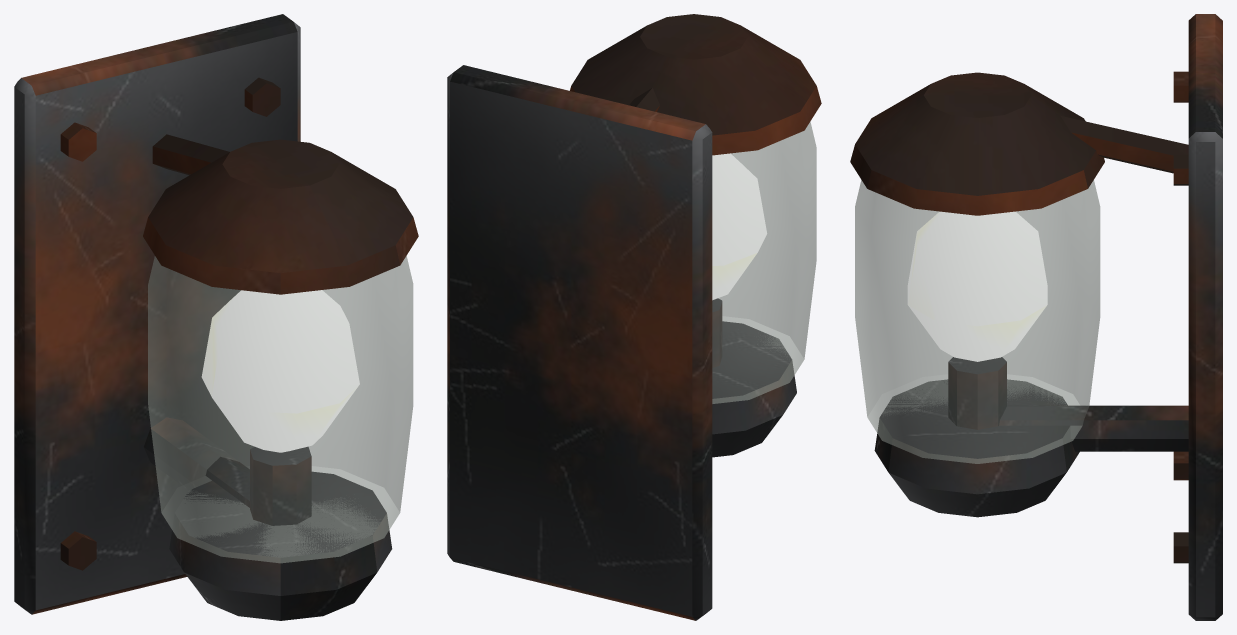
Rendered from light_wall_sconce.glb.
The picture shows the model from 3 angles, left to right: view 1: azimuth 30°, elevation 25°; view 2: azimuth 150°, elevation 25°; view 3: azimuth 270°, elevation 25°; orthographic projection. The views are drawn at different scales.
Visible parts, largest first — view 1: Body, Glass, Rust, Bulb; view 2: Body, Glass, Rust, Bulb; view 3: Glass, Body, Rust, Bulb.
Part boxes in pixels (x1,y1,x2,y2): Body: (14, 14, 392, 620); Glass: (148, 256, 413, 563); Rust: (60, 77, 418, 570); Bulb: (201, 290, 359, 452); Body: (447, 65, 796, 620); Glass: (712, 121, 816, 403); Rust: (570, 14, 821, 155); Bulb: (712, 153, 766, 299); Glass: (855, 180, 1100, 463); Body: (874, 14, 1222, 620); Rust: (850, 71, 1188, 563); Bulb: (907, 211, 1047, 361).
Size of the model in its own units: 0.12 by 0.22 by 0.152.
Materials: 4 (2 with a texture image).
